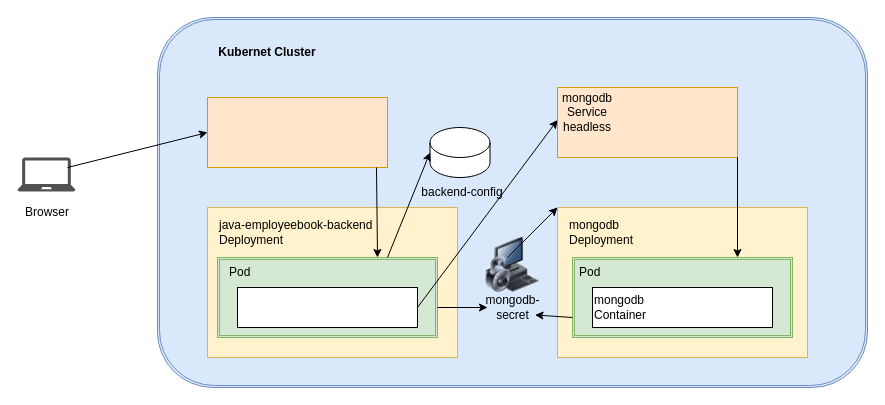
This 885x405 diagram has some shape labels left out. The shapes that lost their labels are listed below. From the top down, each one's centre as x and y in pixels, then its label:
the point at 297,132: java-employeebook-backend Service Type::LoadBalncer
the point at 327,307: java-employeebook-backend Container
